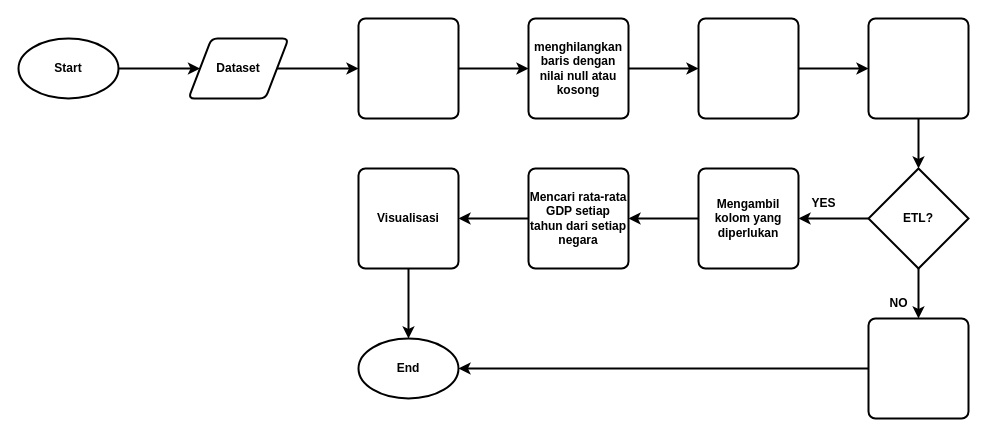
Some shapes in this 986 by 436 pixel diagram are drawn without their labels. The centre of each missing label's shape, as x and y in pixels:
"melakukan reset index" belongs at [918,68].
"Melakukan sorting berdasarkan lokasi dan waktu" belongs at [748,68].
"Menghilangkan kolom yang tidak memiliki header" belongs at [408,68].
"Menyimpan data kedalam bentuk excel" belongs at [918,368].
